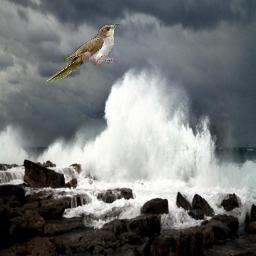Cuckoo: (44, 22, 120, 82)
